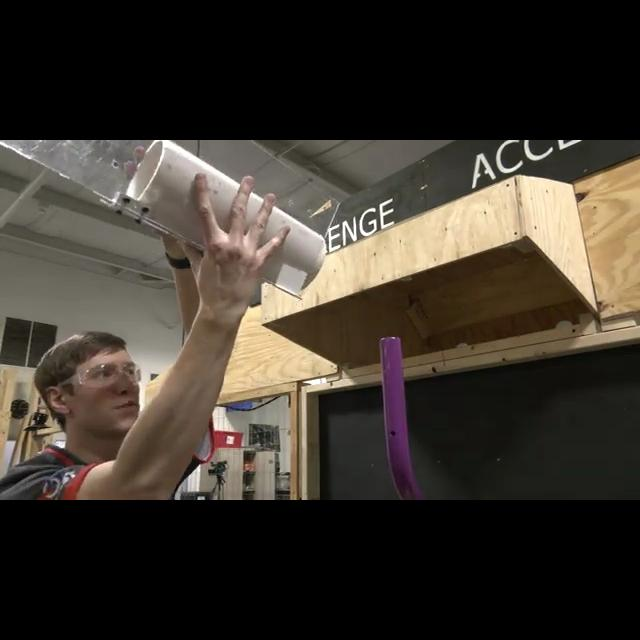CORAL: (116, 140, 328, 300)
